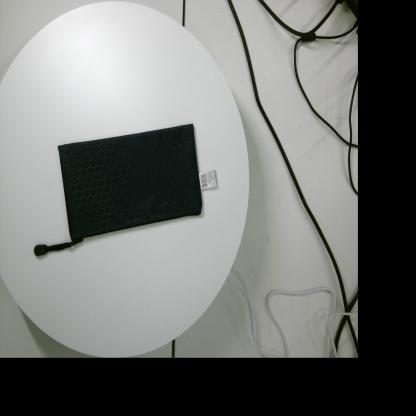Stationery: (34, 123, 218, 256)
